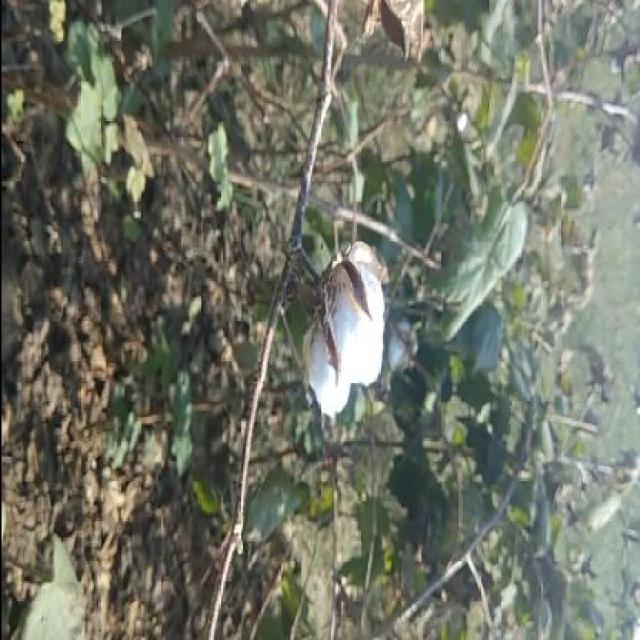cotton_ready: (273, 223, 381, 414)
